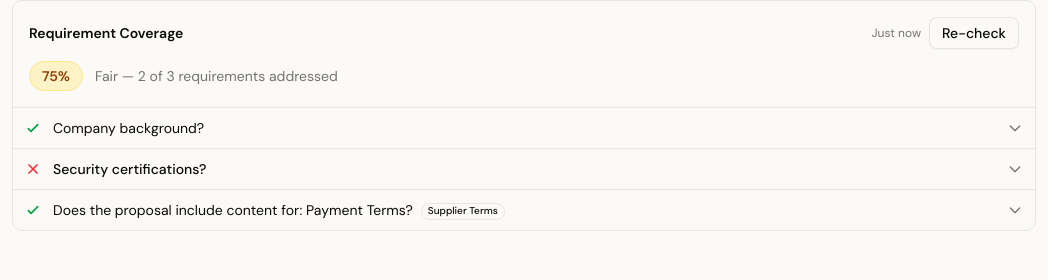
CoverageReportPanel › shows gap when expanding an unaddressed requirement
Click the button "Security certifications?" at (130, 169), box [13,149,1035,189]
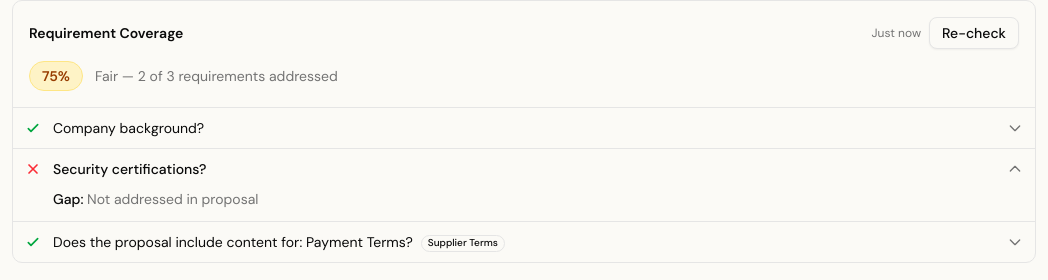
Now the text "Gap: Not addressed in proposal" is shown, box [53,190,258,208]
